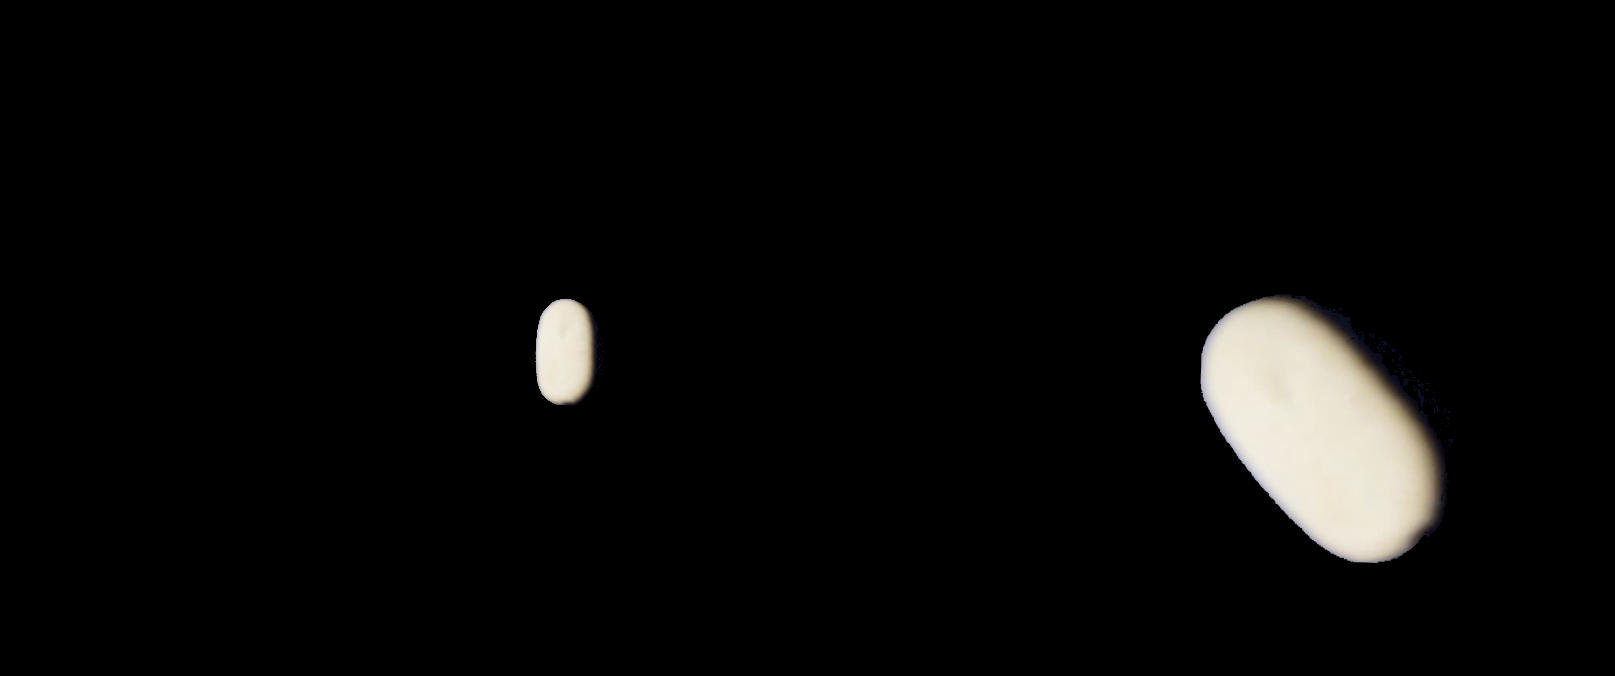test: (1190, 286, 1463, 569), (500, 286, 633, 419)
